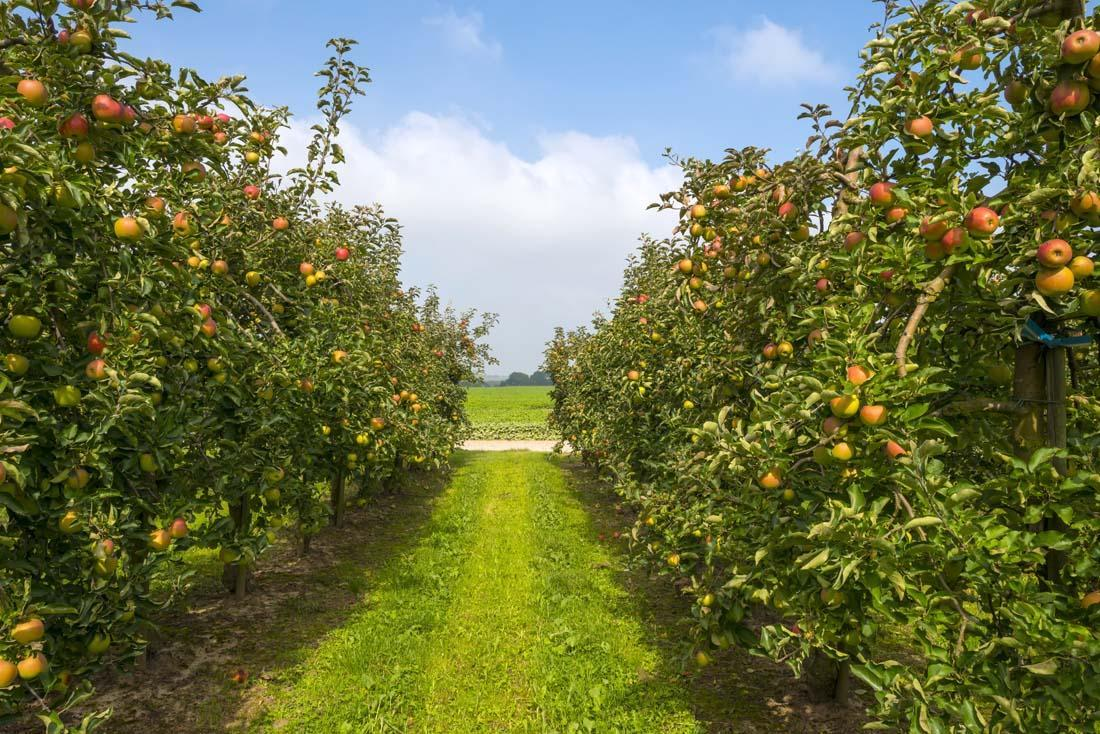apple: (1048, 78, 1093, 120), (1059, 24, 1100, 62), (969, 207, 1006, 238), (1035, 237, 1072, 267), (54, 110, 89, 140), (940, 230, 976, 258), (167, 213, 199, 236), (80, 358, 110, 381), (240, 180, 262, 199)
